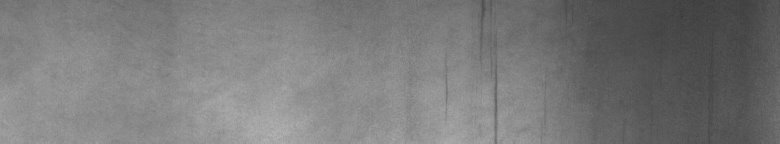ka: (446, 4, 500, 136)
